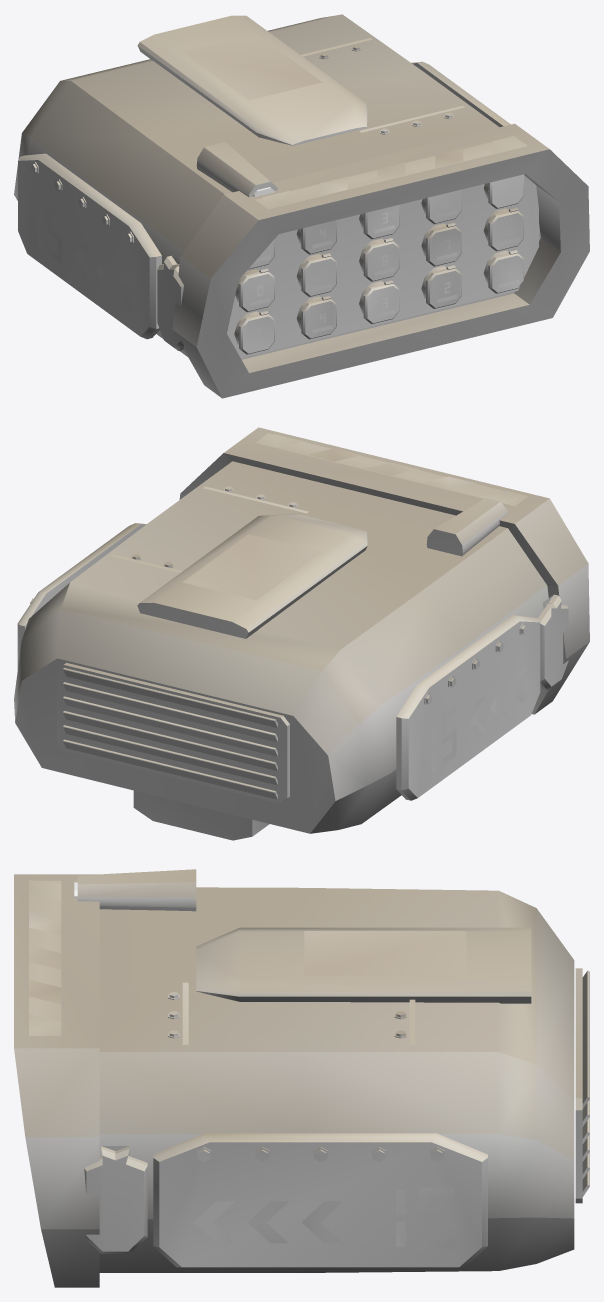
File: missile-pod-h.glb
3 renders of one model, top to bottom at view 1: azimuth 30°, elevation 25°; view 2: azimuth 150°, elevation 25°; view 3: azimuth 270°, elevation 25°, orthographic. The views are drawn at different scales.
Parts seen in each view (by area): view 1: Body, Door_7, Door_12, Door_13, Door_11, Door_9, Door_6, Door_5, Door_14, Door_10, Door_8, Door_2 (+3 smaller); view 2: Body; view 3: Body.
Part boxes in pixels (left/top/right/bottom): Body: left=14, top=14, right=589, bottom=398; Door_7: left=363, top=238, right=399, bottom=281; Door_12: left=363, top=280, right=399, bottom=324; Door_13: left=301, top=295, right=336, bottom=339; Door_11: left=426, top=265, right=461, bottom=308; Door_9: left=239, top=268, right=274, bottom=311; Door_6: left=426, top=223, right=461, bottom=266; Door_5: left=488, top=207, right=523, bottom=251; Door_14: left=239, top=311, right=274, bottom=354; Door_10: left=488, top=250, right=523, bottom=293; Door_8: left=301, top=253, right=336, bottom=296; Door_2: left=363, top=205, right=399, bottom=239; Body: left=14, top=427, right=589, bottom=840; Body: left=14, top=869, right=589, bottom=1287.
Bounding box in the file's own units: 0.9996 × 0.5628 × 1.02.
